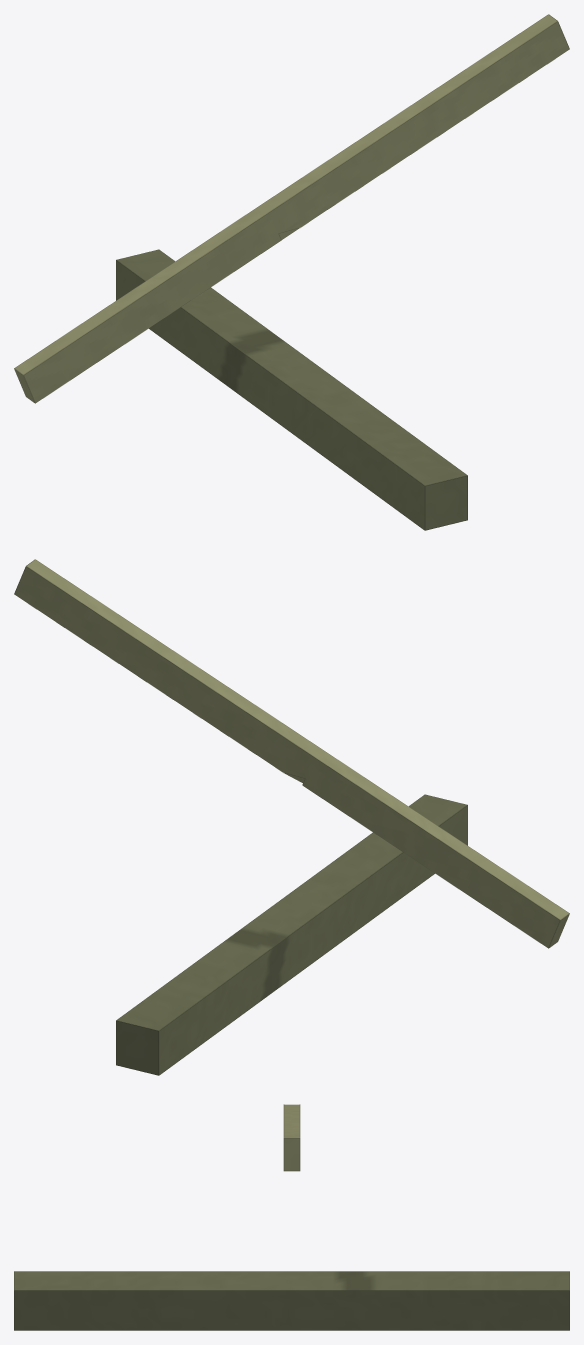
File: rafter-over-purlin.glb
3 views of the same model, one above another, from view 1: azimuth 30°, elevation 25°; view 2: azimuth 150°, elevation 25°; view 3: azimuth 270°, elevation 25° (orthographic). The views are drawn at different scales.
Parts seen in each view (by area): view 1: part-b, part-a; view 2: part-b, part-a; view 3: part-a, part-b.
Part boxes in pixels (bbox=[...]): part-b: bbox=[14, 14, 569, 403]; part-a: bbox=[116, 249, 467, 530]; part-b: bbox=[14, 559, 569, 948]; part-a: bbox=[116, 794, 467, 1075]; part-a: bbox=[14, 1271, 569, 1330]; part-b: bbox=[283, 1104, 300, 1171].
Size of the model in its own units: 1.53 by 0.8884 by 1.5.
